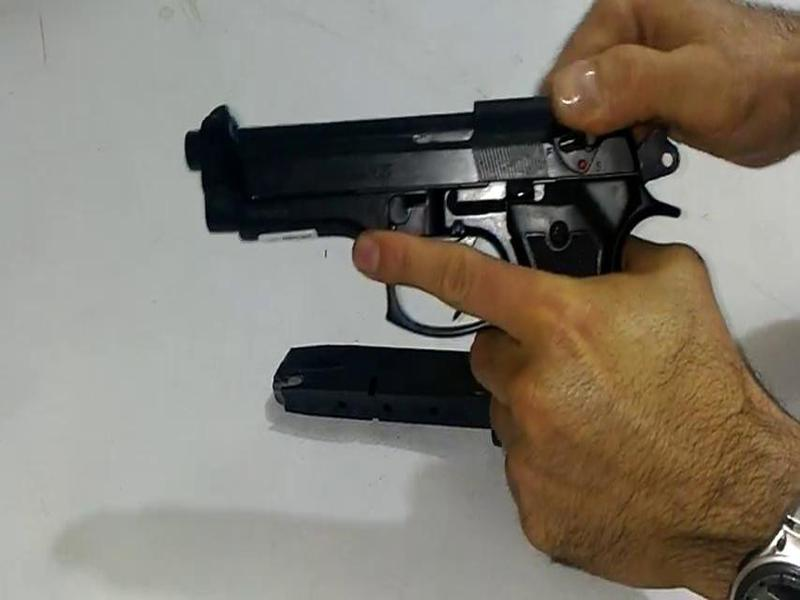Pistola: (183, 43, 706, 493)
